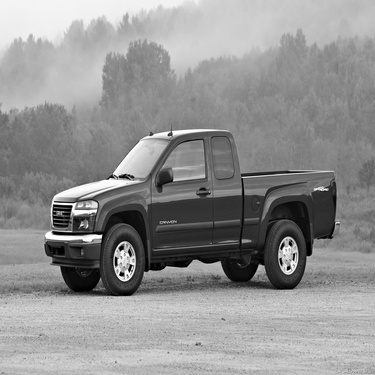car: (32, 123, 342, 297)
